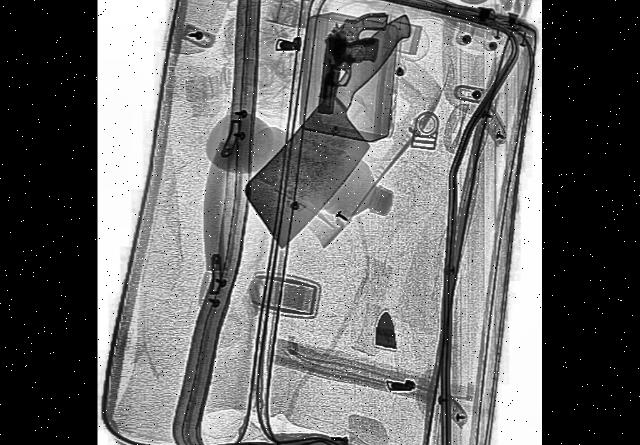Gun: (312, 0, 386, 125), (315, 22, 380, 124)
Knife: (240, 0, 435, 262)
